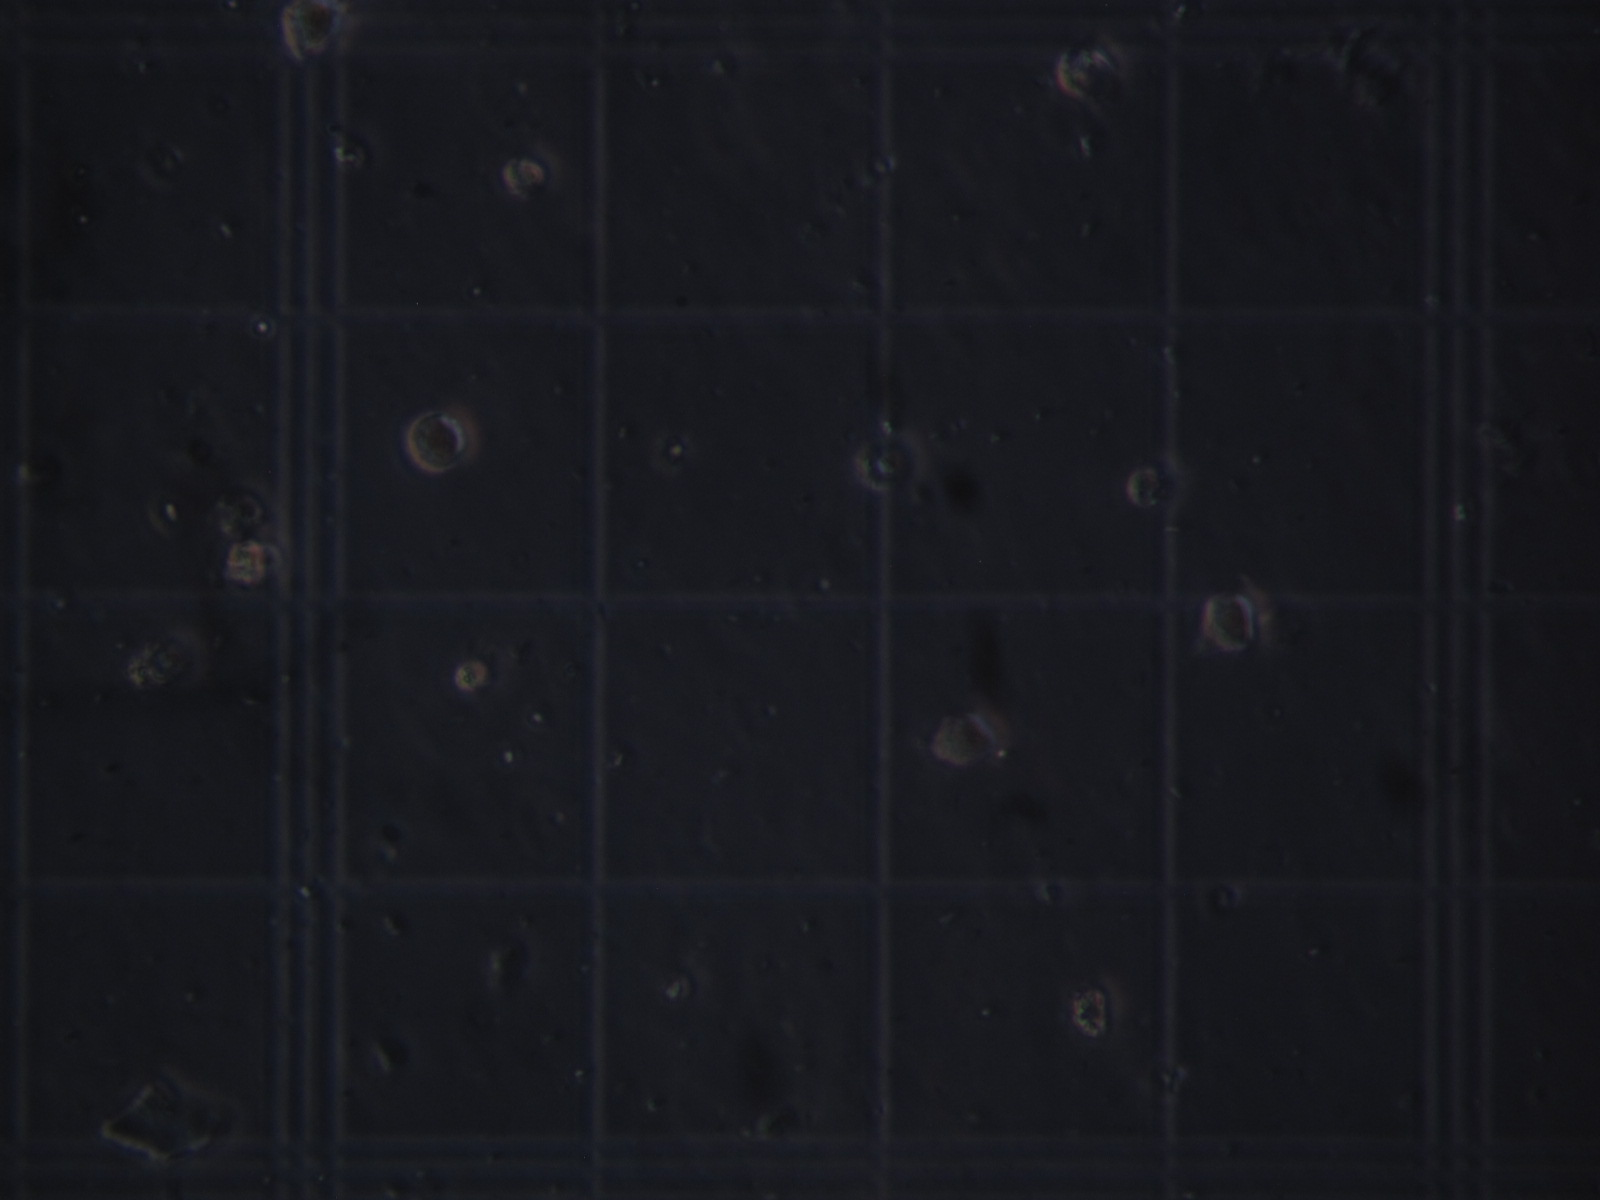hemo: (1199, 584, 1275, 661), (930, 700, 1007, 771), (1054, 32, 1126, 105), (404, 406, 483, 471), (854, 430, 930, 494), (281, 1, 357, 55), (1129, 446, 1186, 517), (503, 141, 562, 197), (1071, 982, 1123, 1040), (222, 538, 270, 586), (451, 657, 491, 695)
